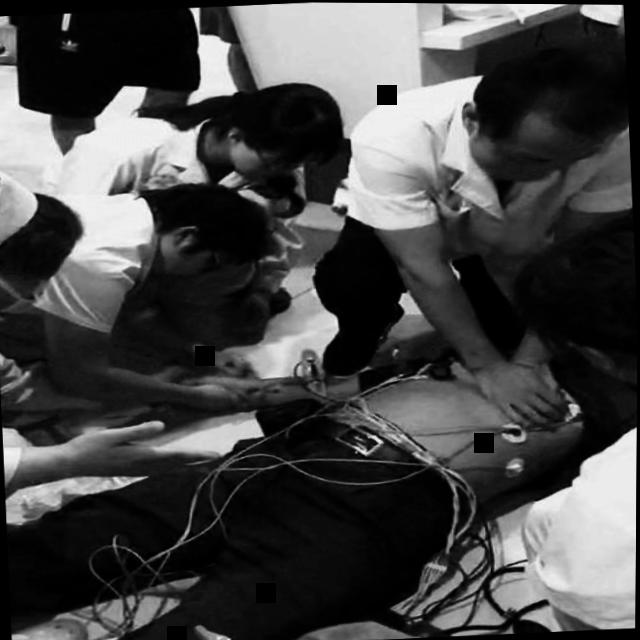Fall-Detected: (11, 275, 638, 640)
